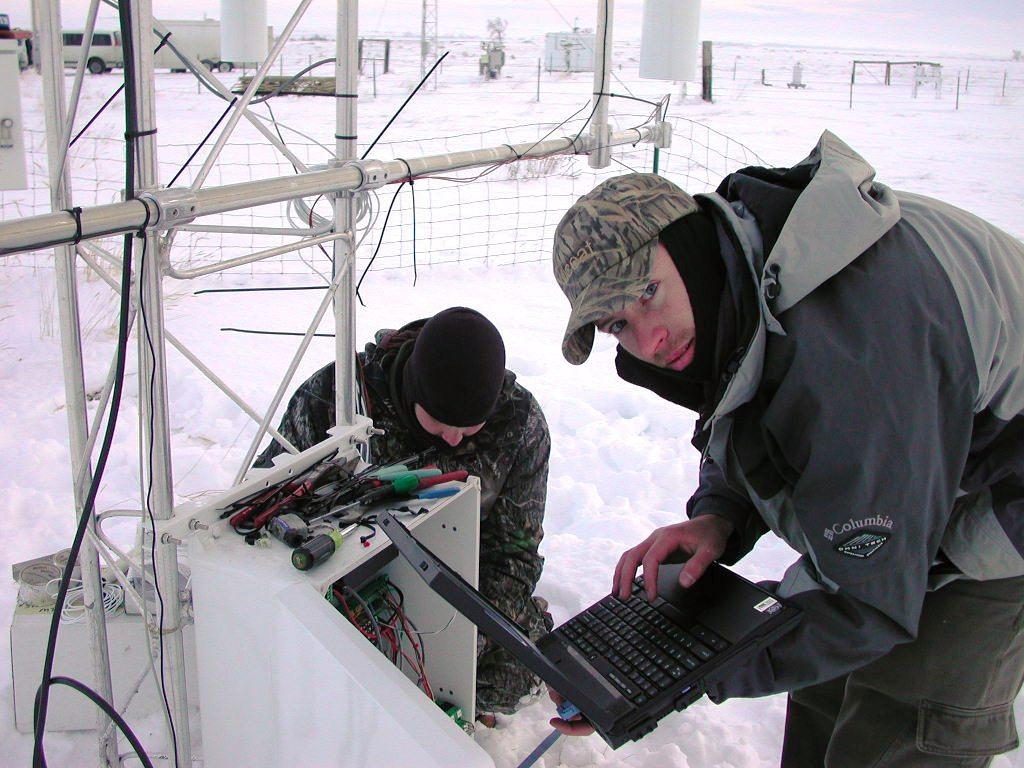Computer-keyboard: (555, 571, 736, 704)
